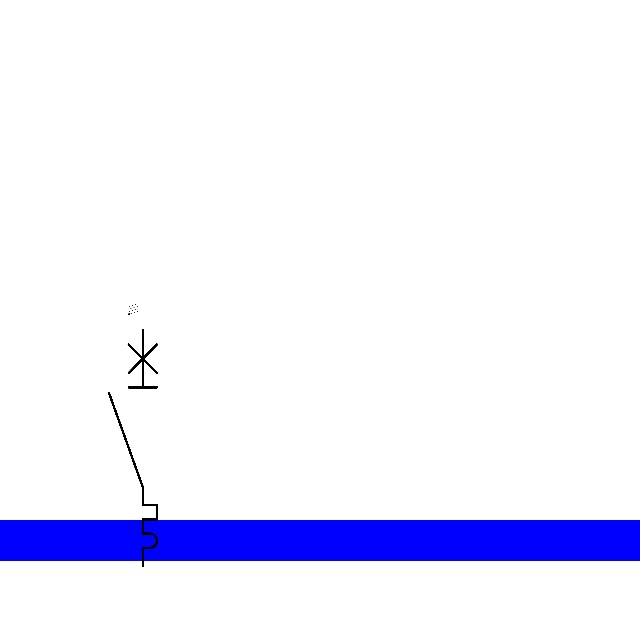interruptor_termomagnetico: (103, 324, 163, 572)
